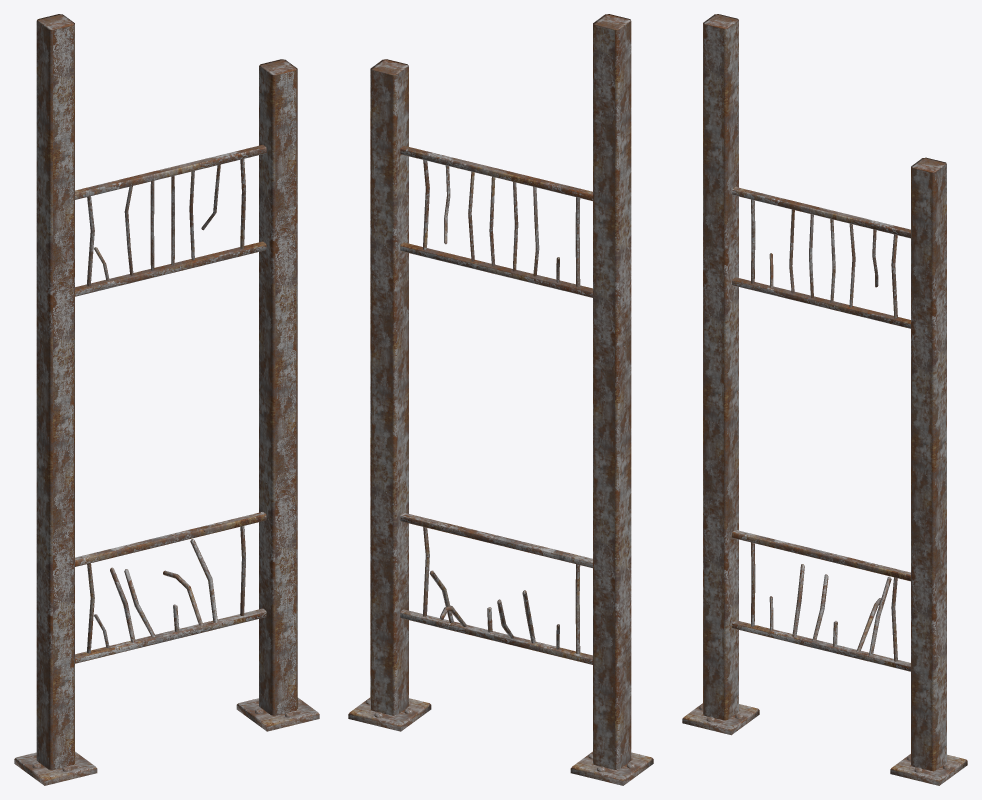
The model's file is SM_Structural_Support_04.FBX.
3 renders of one model, left to right at view 1: azimuth 30°, elevation 25°; view 2: azimuth 150°, elevation 25°; view 3: azimuth 330°, elevation 25°, orthographic. The views are drawn at different scales.
Visible parts, largest first — view 1: SM_Structural_Support_04_LOD0; view 2: SM_Structural_Support_04_LOD0; view 3: SM_Structural_Support_04_LOD0.
Boxes of the visible parts, x1,y1,x2,y2 form: SM_Structural_Support_04_LOD0: (14, 14, 319, 785); SM_Structural_Support_04_LOD0: (348, 14, 653, 785); SM_Structural_Support_04_LOD0: (682, 14, 967, 785).
Size of what is drawn, in the model's own units: 152 by 44.67 by 395.
